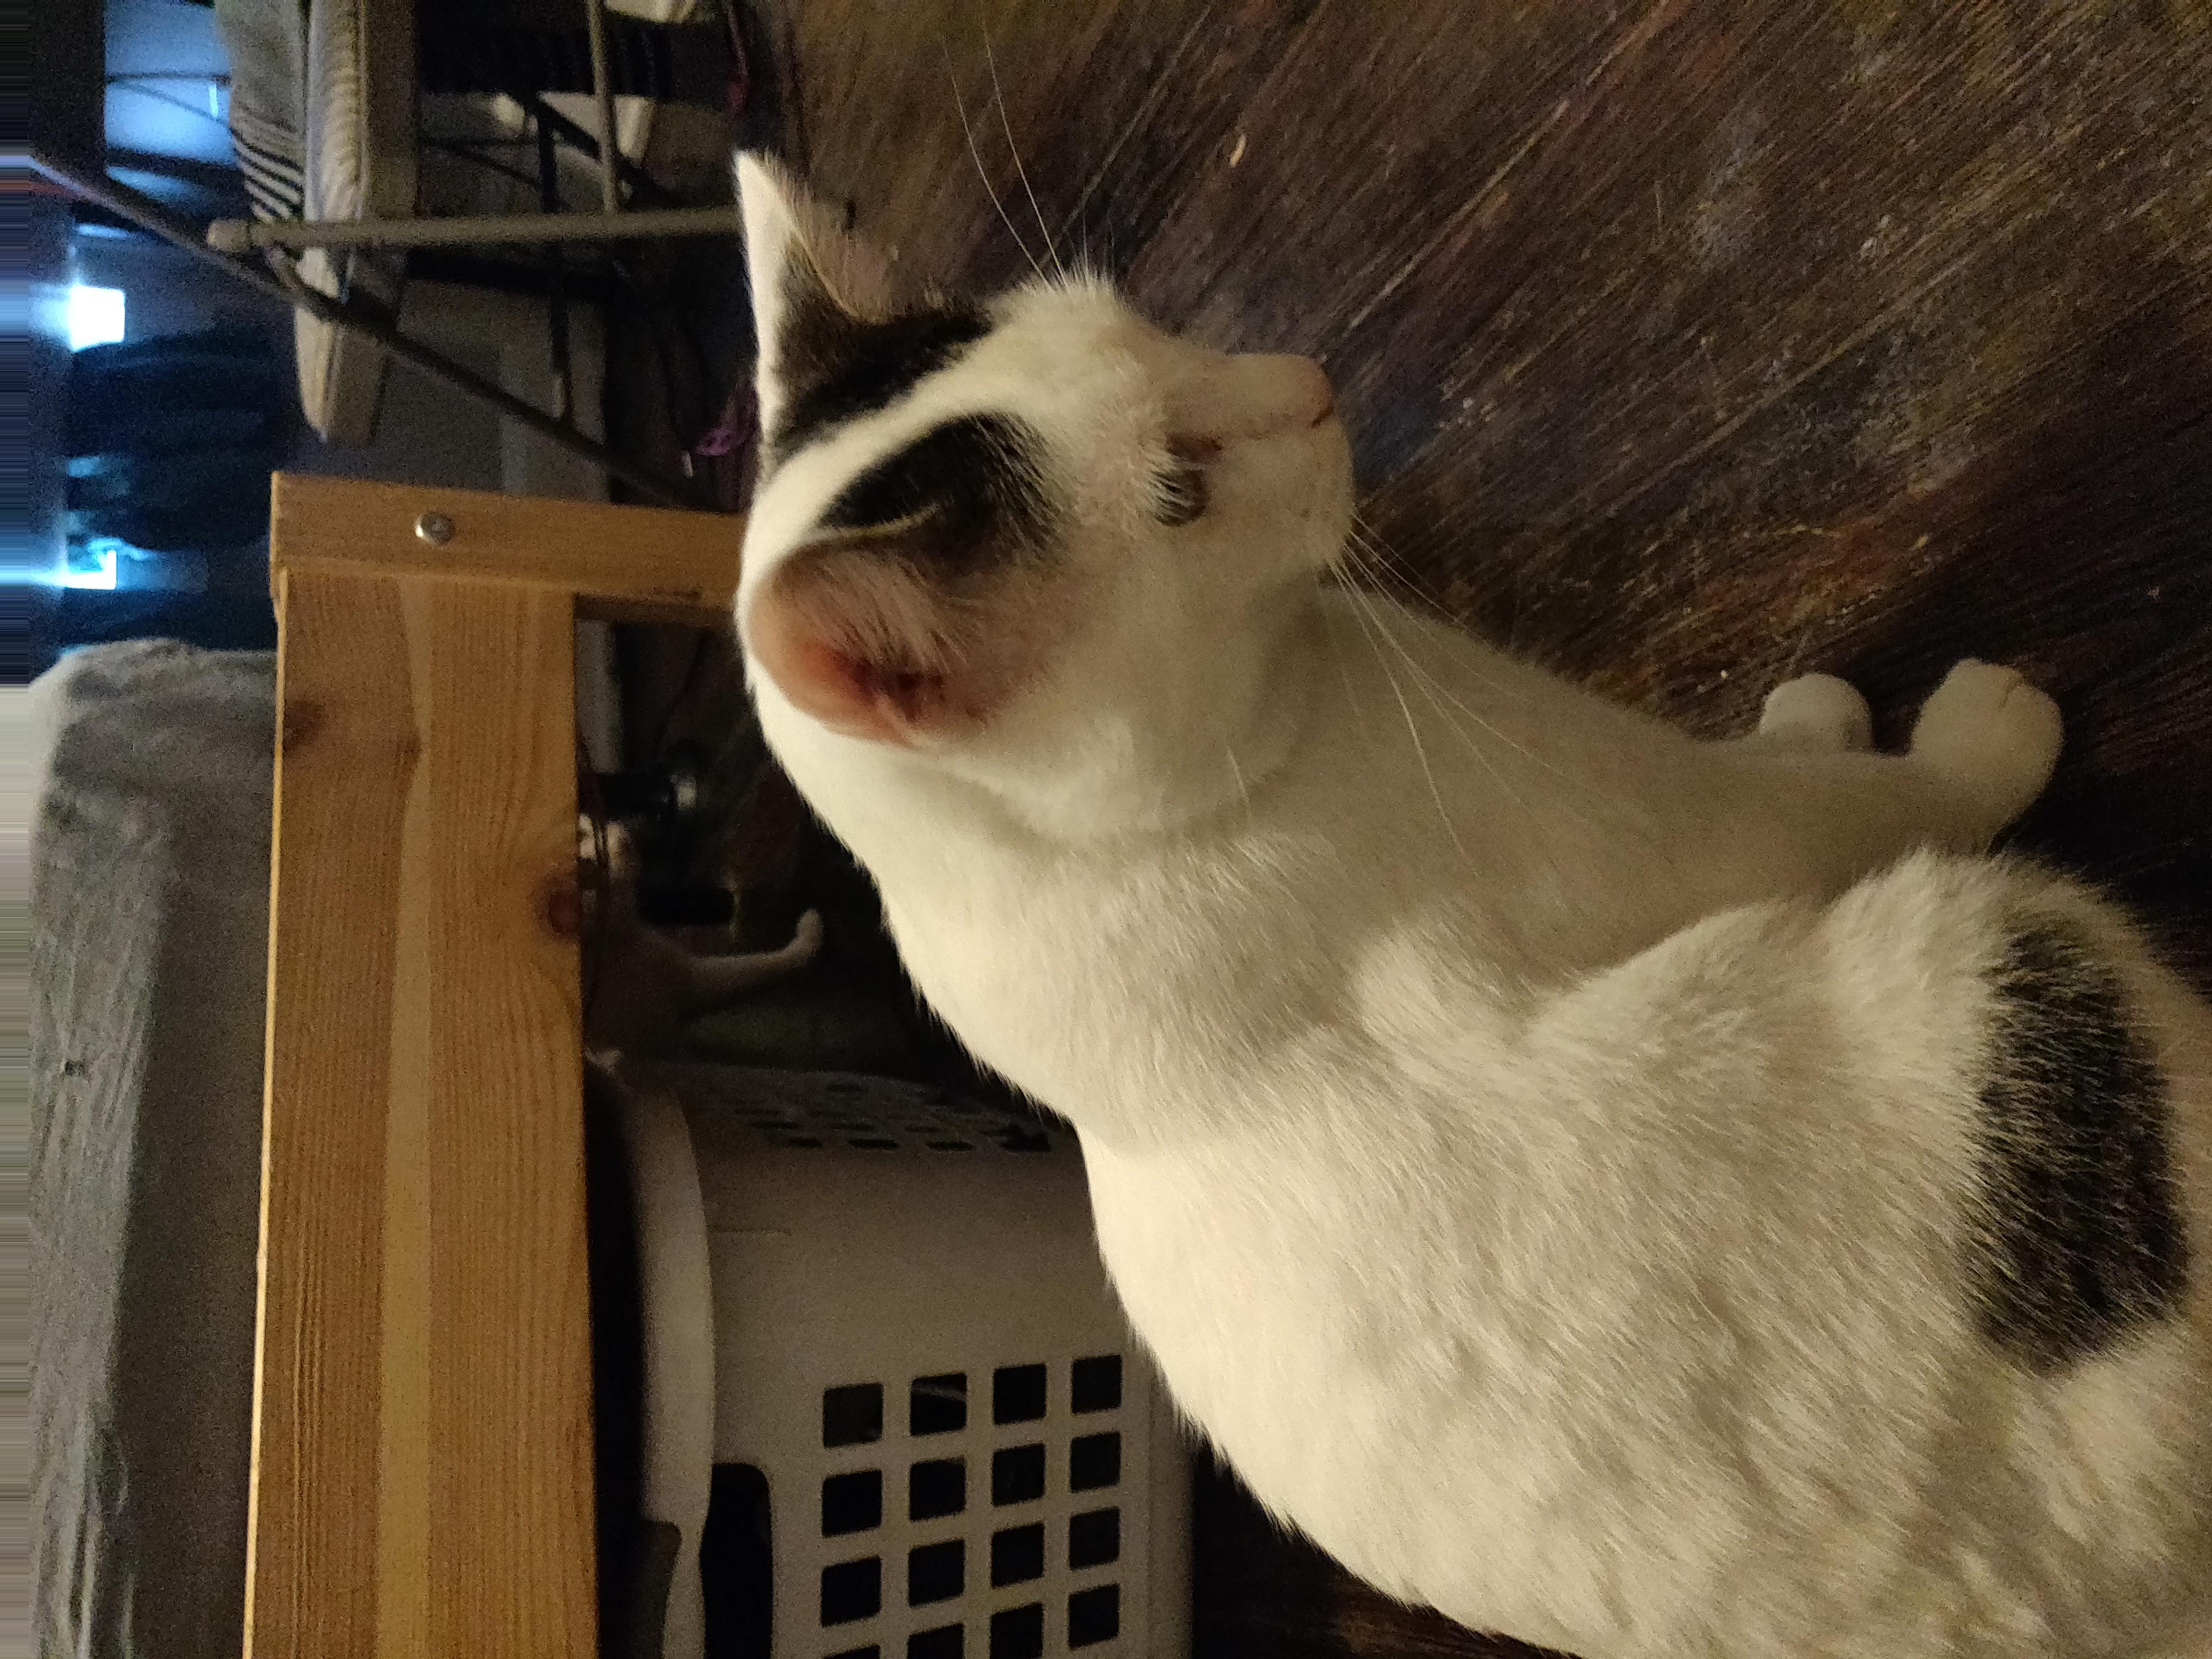cat: (724, 129, 2208, 1659)
